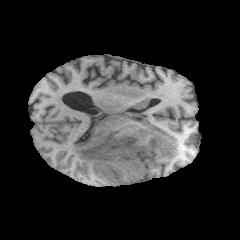glioma: (73, 125, 178, 182)
